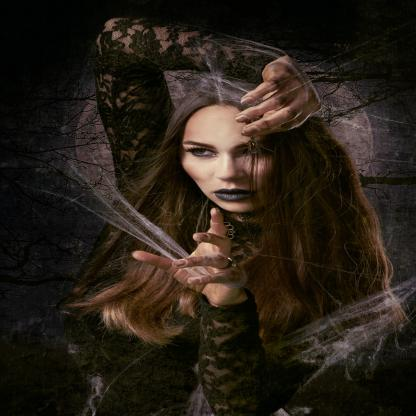Eye: (184, 142, 219, 157)
Mouth: (210, 186, 256, 202)
Nose: (216, 155, 249, 183)
